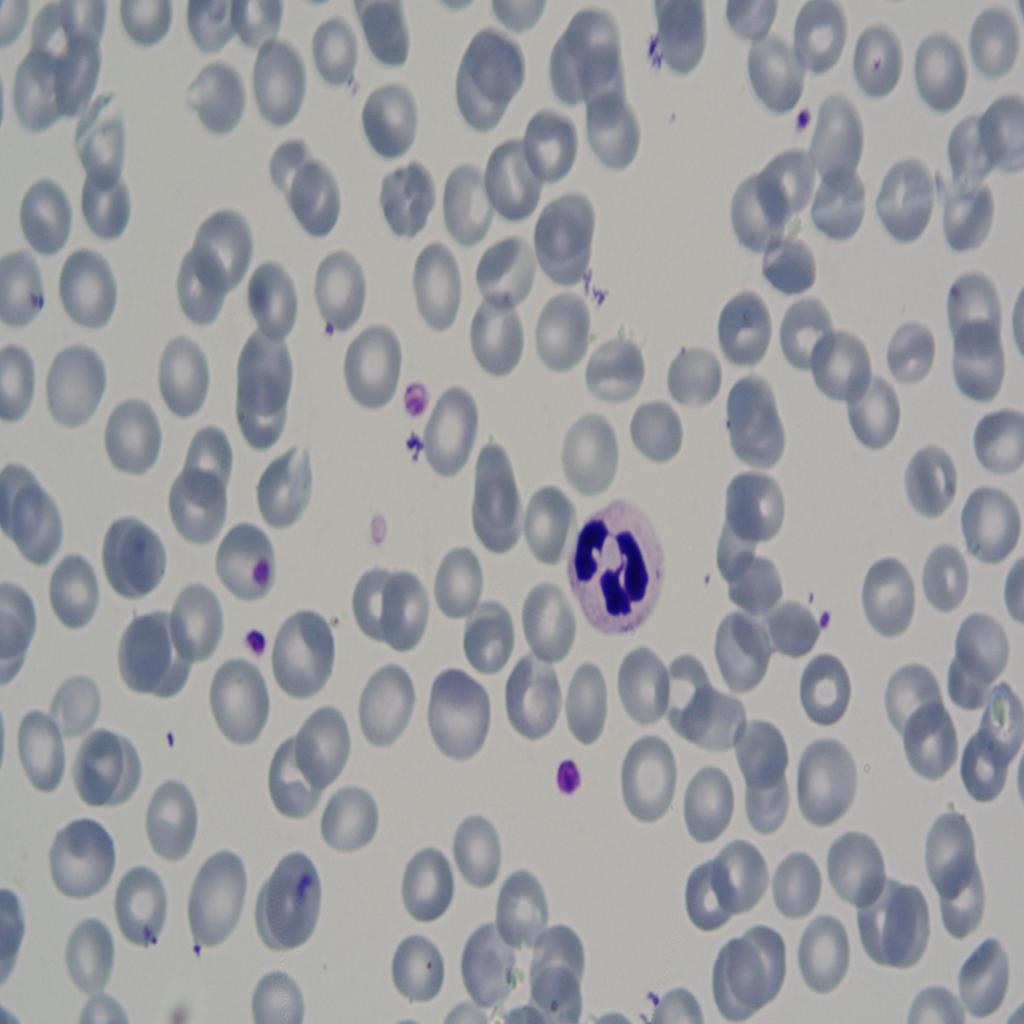Neutrofil: (566, 499, 673, 644)
Platelet: (548, 756, 586, 812), (242, 619, 278, 676), (784, 98, 815, 144), (310, 304, 338, 350), (403, 370, 432, 414), (364, 508, 395, 546), (240, 556, 271, 590), (403, 431, 427, 471), (812, 592, 832, 633), (157, 718, 178, 756)
